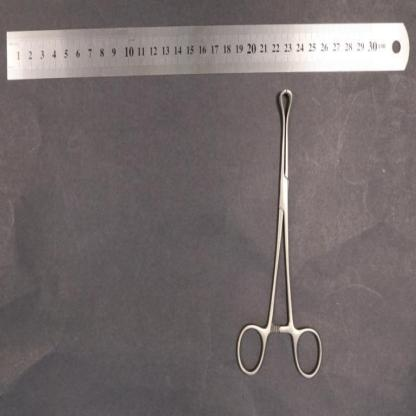Babcock Tissue Forceps: (236, 86, 324, 378)
